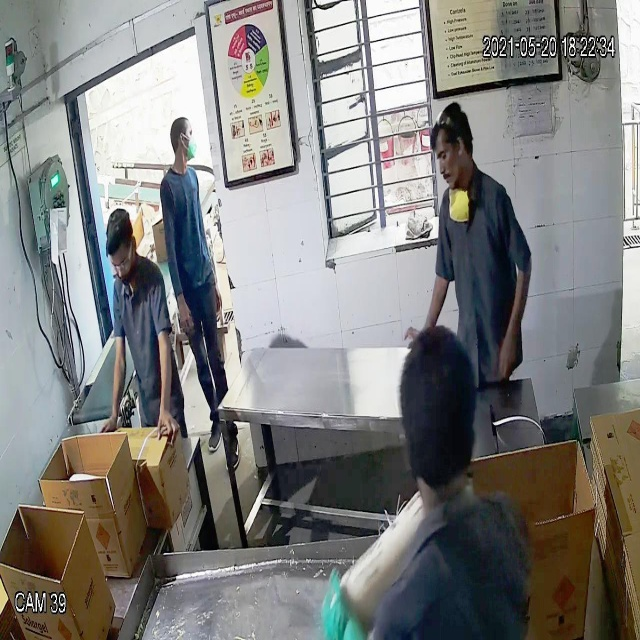Gafas: (107, 248, 134, 276)
Sin_gafas: (430, 139, 467, 170)
